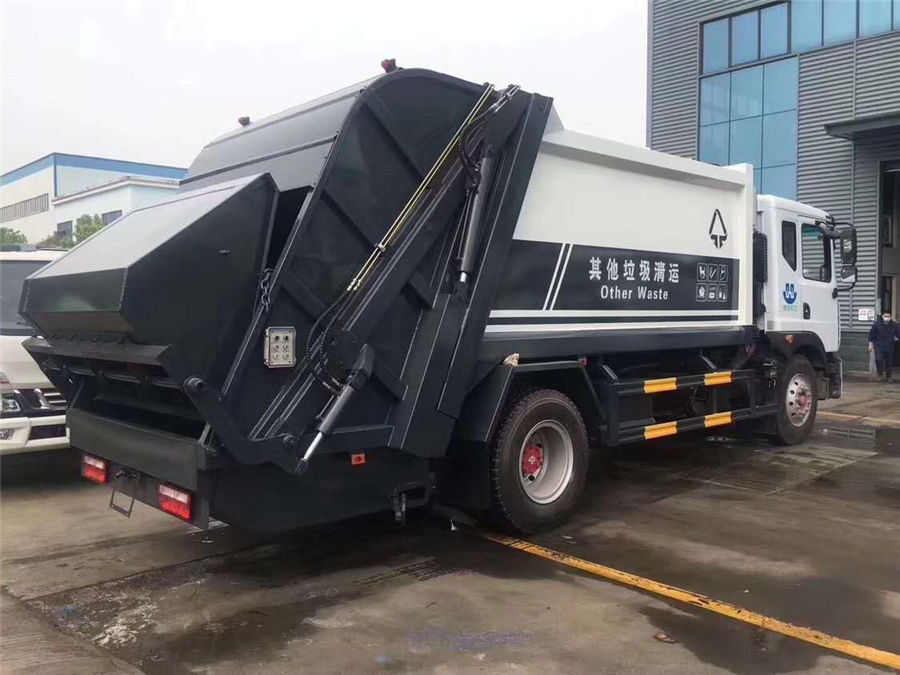garbagetruck: (70, 70, 847, 531)
